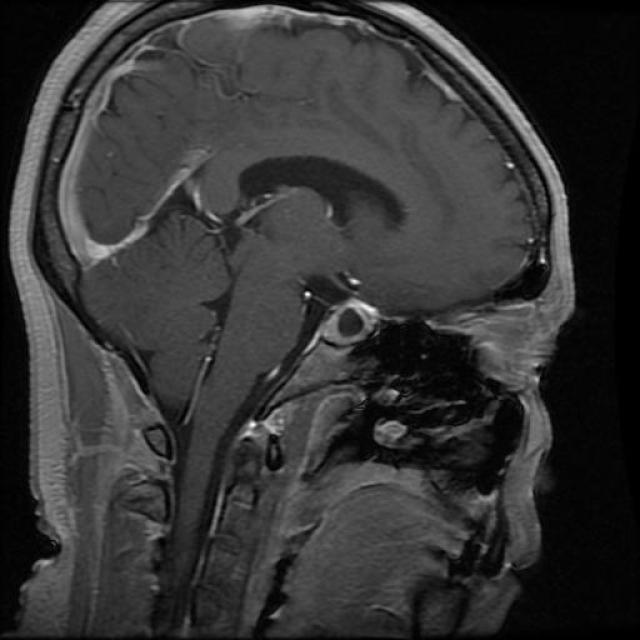pituitary: (288, 271, 412, 448)
